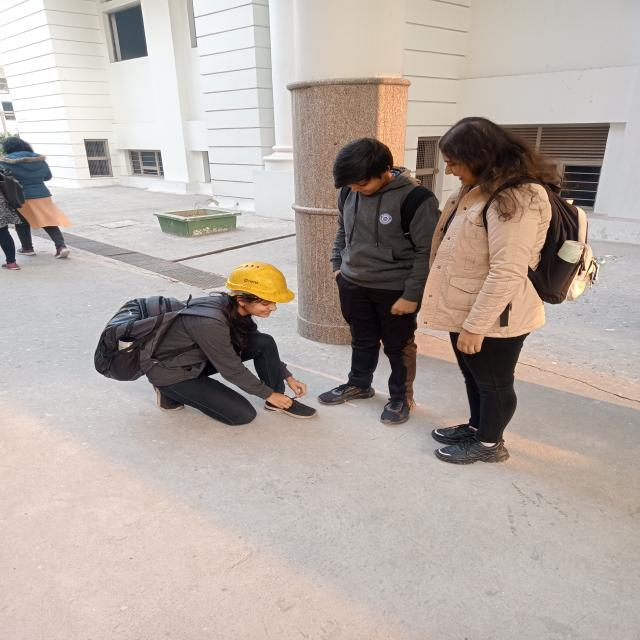no jacket: (144, 260, 319, 426)
unsafe: (432, 116, 552, 467), (319, 138, 432, 428), (0, 135, 70, 261)
